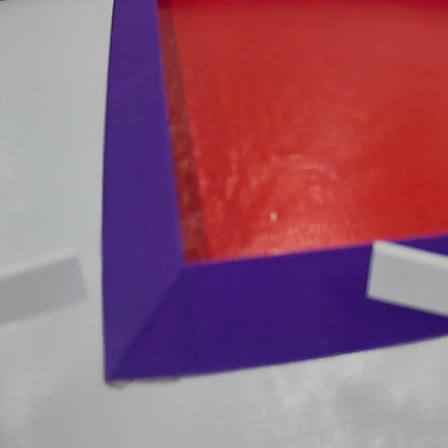red_aim: (91, 0, 448, 382)
